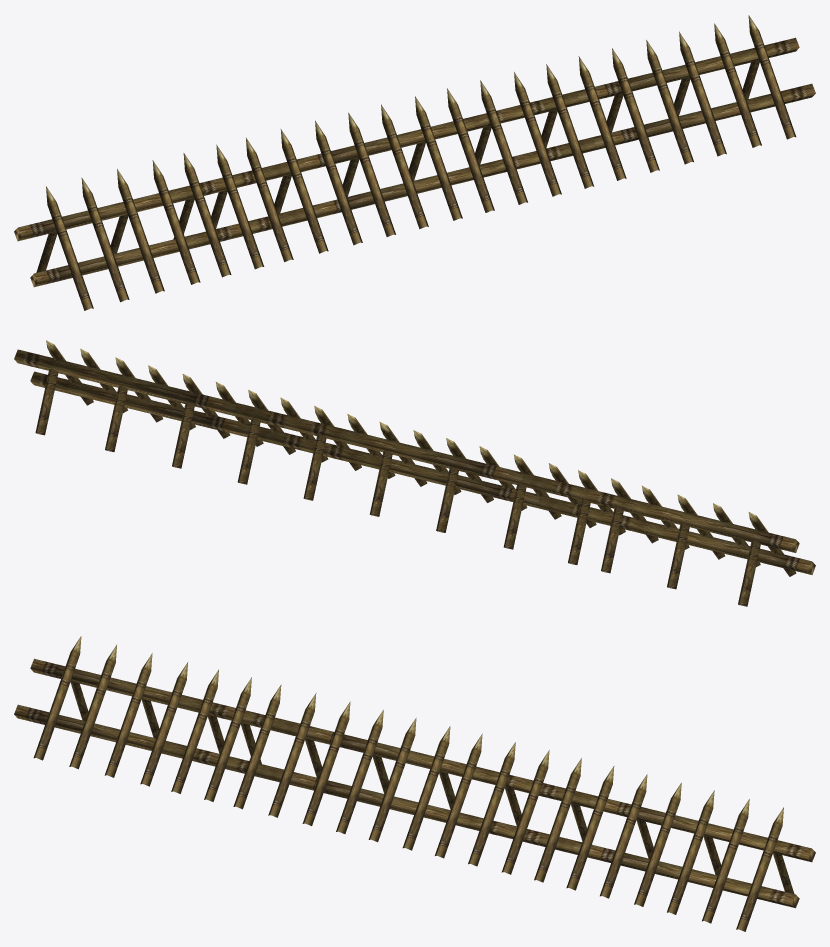
File: bagh_barricade07.glb
3 views of the same model, one above another, from view 1: azimuth 30°, elevation 25°; view 2: azimuth 150°, elevation 25°; view 3: azimuth 330°, elevation 25° (orthographic).
Parts seen in each view (by area): view 1: res\bldg\arabia\bagh_city\event\bagh_barricade07.bsr; view 2: res\bldg\arabia\bagh_city\event\bagh_barricade07.bsr; view 3: res\bldg\arabia\bagh_city\event\bagh_barricade07.bsr.
Part boxes in pixels (x1=…): res\bldg\arabia\bagh_city\event\bagh_barricade07.bsr: x1=14, y1=15, x2=815, y2=310; res\bldg\arabia\bagh_city\event\bagh_barricade07.bsr: x1=14, y1=340, x2=815, y2=606; res\bldg\arabia\bagh_city\event\bagh_barricade07.bsr: x1=14, y1=636, x2=815, y2=931.
Bounding box in the file's own units: 113 × 13.28 × 13.4.
Materials: 1 (1 with a texture image).
